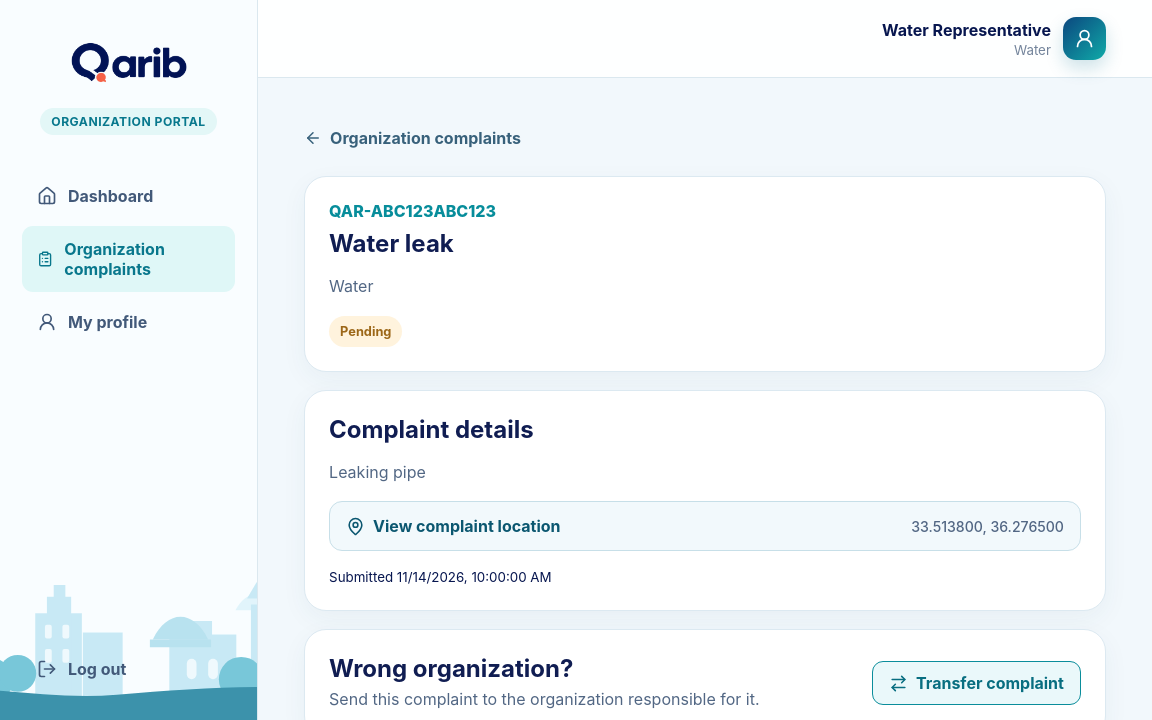
Test case: authentication pages › transfers an open complaint to another organization
What coordinates should you click on to do the following:
click the button "Transfer complaint"
I would click on:
 (976, 684)
Its box is x1=872 y1=662 x2=1081 y2=706.
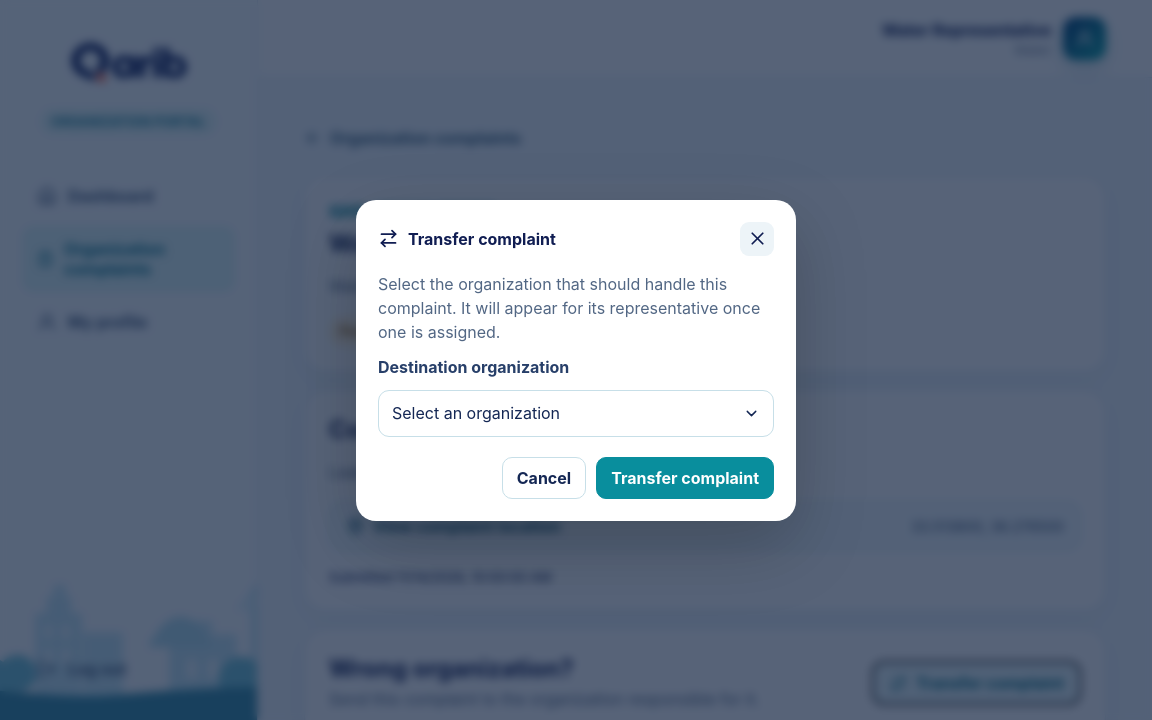
What coordinates should you click on to do the following:
click the dropdown named "Destination organization"
I would click on:
 (476, 413)
Its box is x1=378 y1=390 x2=774 y2=436.
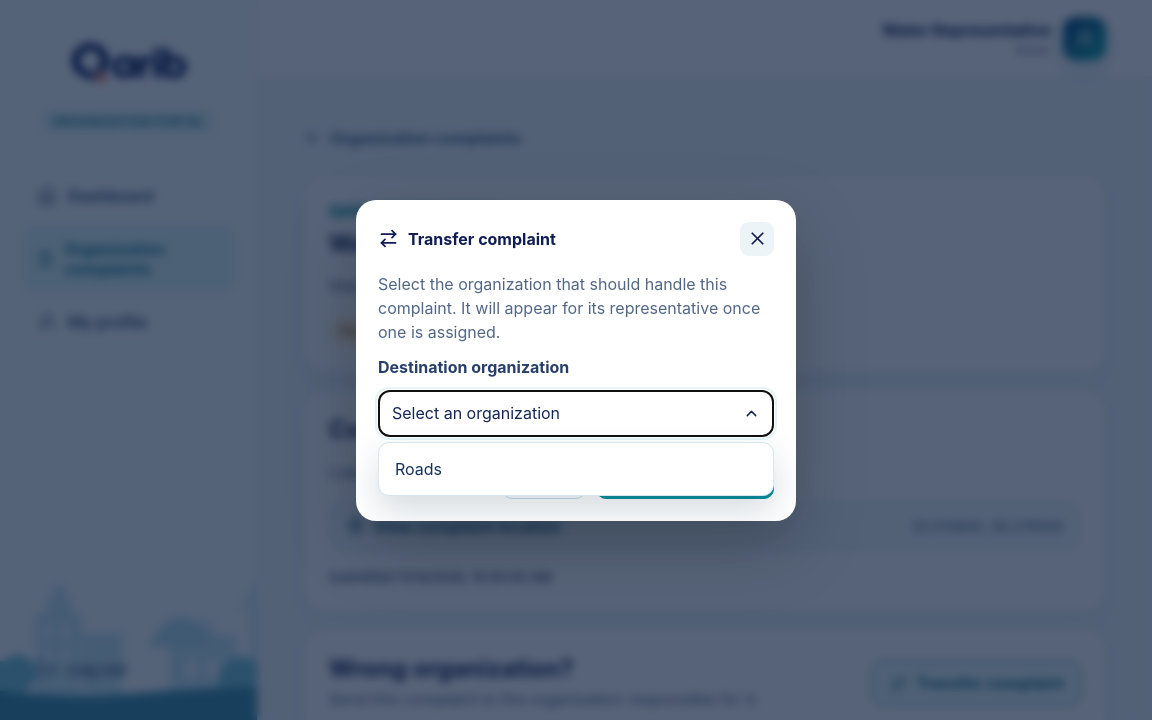
What coordinates should you click on to do the following:
click the option "Roads"
I would click on:
 (419, 468)
Its box is x1=385 y1=448 x2=767 y2=488.
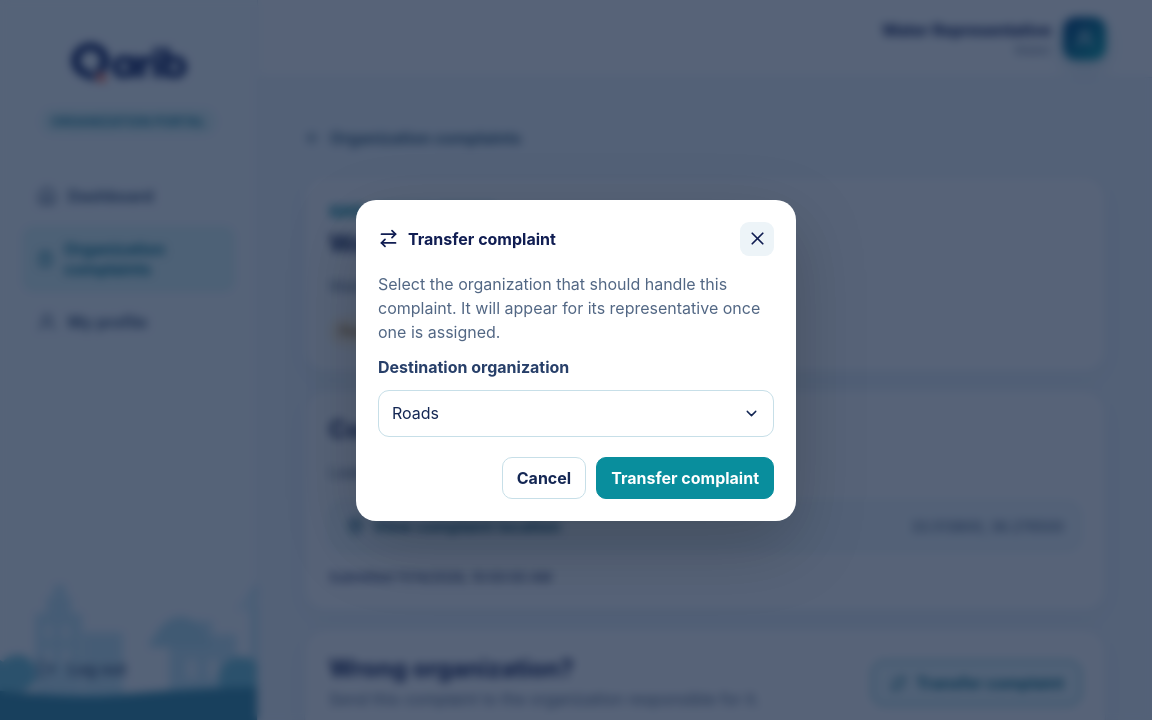
What coordinates should you click on to do the following:
click the button "Transfer complaint"
I would click on:
 (685, 478)
Its box is x1=596 y1=456 x2=774 y2=498.
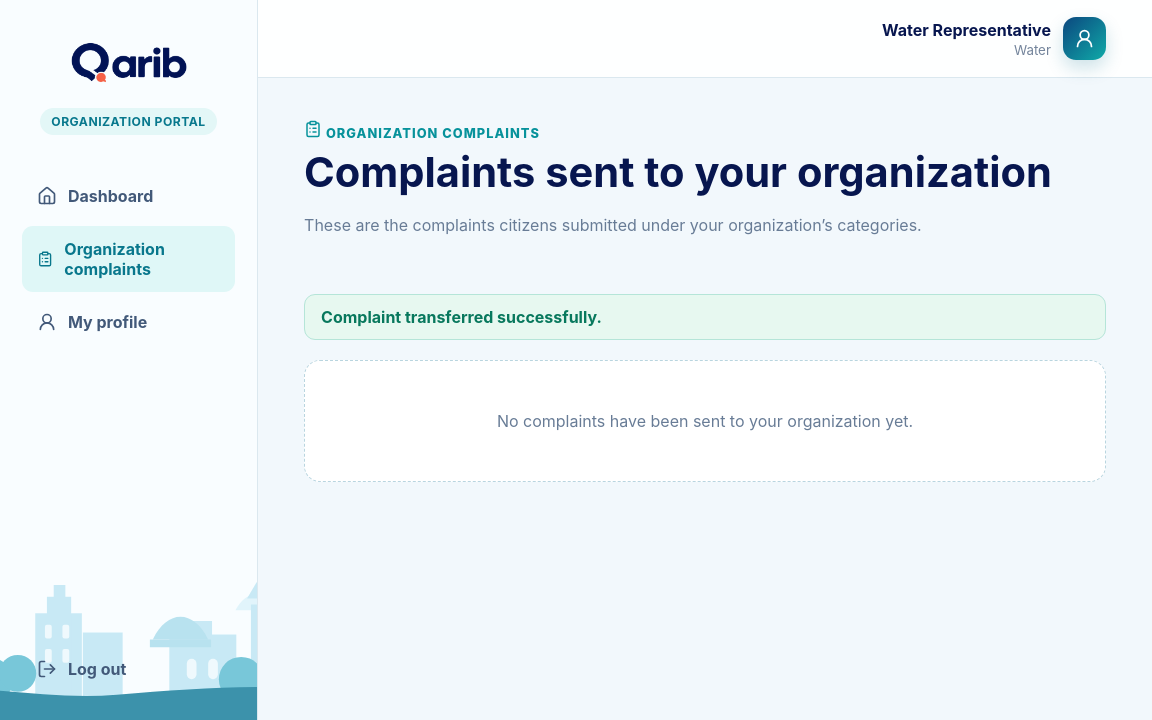
Expected: the message reads "Complaint transferred successfully.", x1=321 y1=307 x2=602 y2=327
